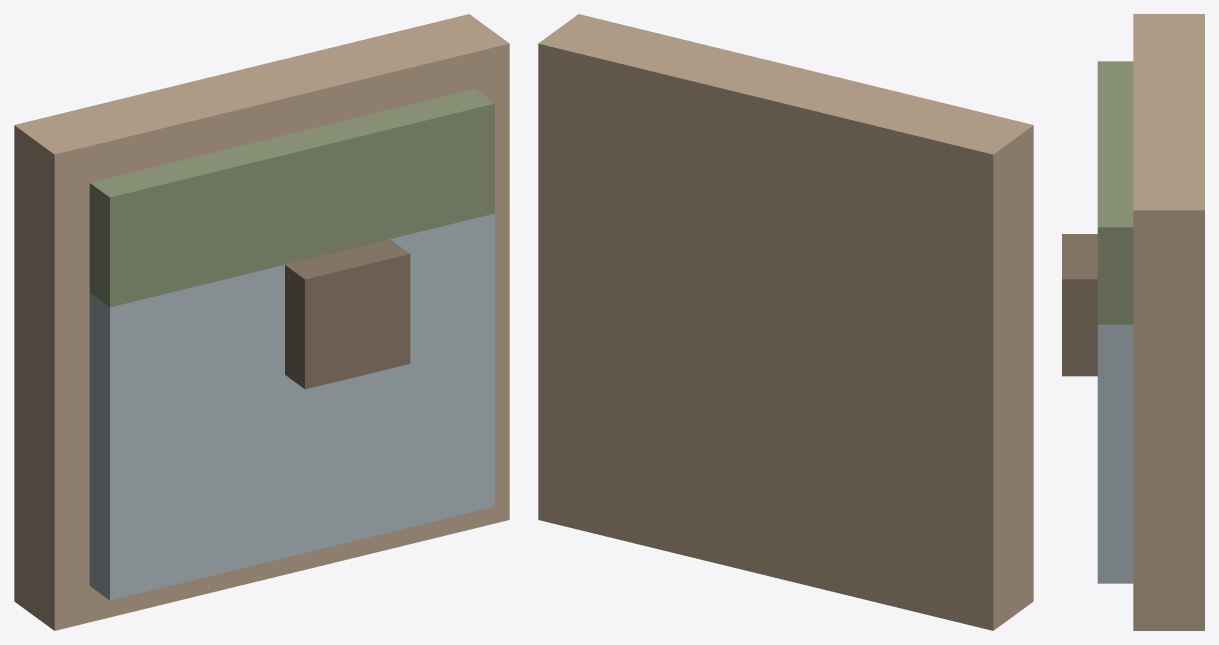
The model's file is cuadro_01.glb.
3 renders of one model, left to right at view 1: azimuth 30°, elevation 25°; view 2: azimuth 150°, elevation 25°; view 3: azimuth 270°, elevation 25°, orthographic. The views are drawn at different scales.
Visible parts, largest first — view 1: cuadro; view 2: cuadro; view 3: cuadro.
Boxes of the visible parts, box(x1,y1,x2,y2) form: cuadro: box(14, 14, 509, 630); cuadro: box(538, 14, 1033, 630); cuadro: box(1062, 14, 1204, 630).
Size of the model in its own units: 1 by 1 by 0.3077.
